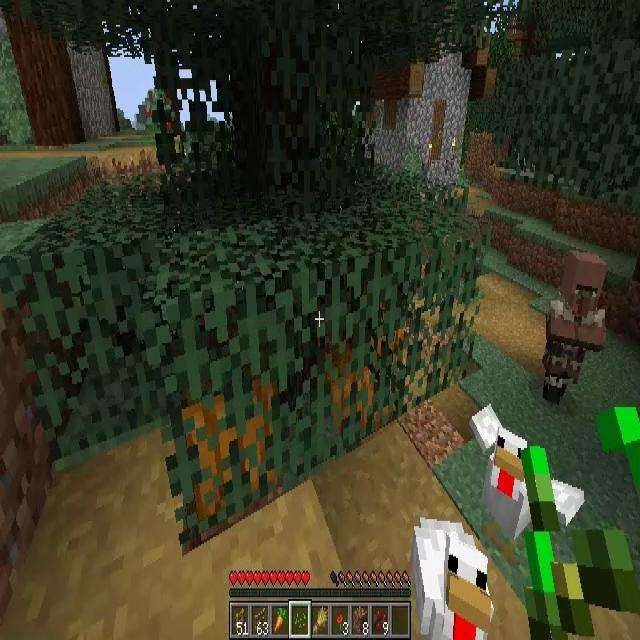duck: (470, 402, 587, 541), (413, 518, 497, 640)
people: (544, 249, 608, 403)
